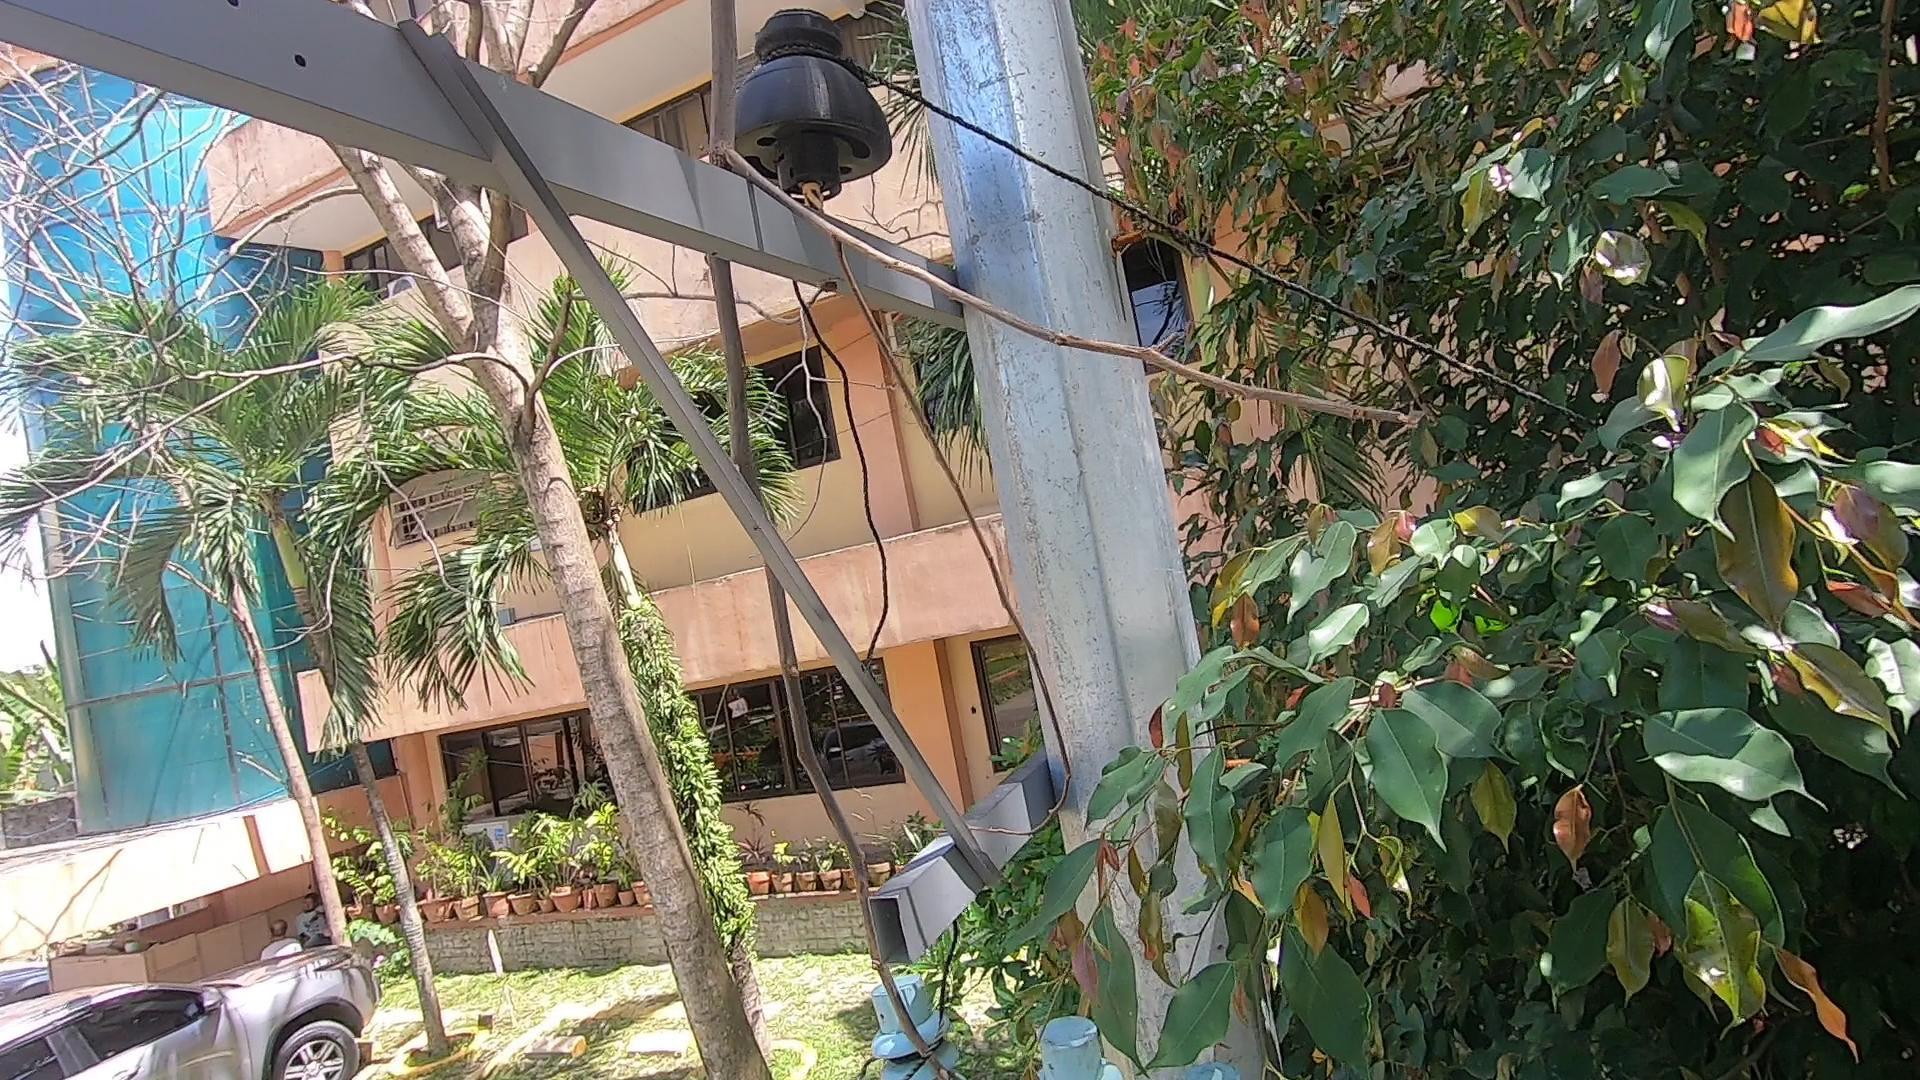branch with leaves: (1004, 878, 1414, 1080)
tree branch: (626, 9, 1444, 1071)
